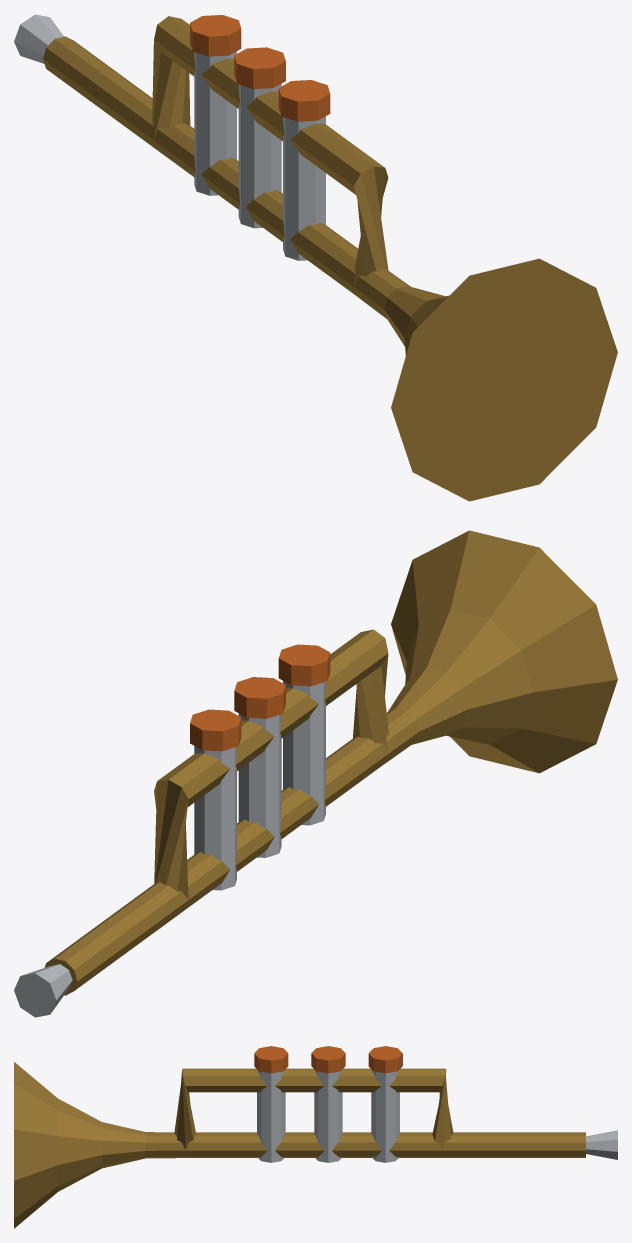
The model's file is fanfar.glb.
3 views of the same model, one above another, from view 1: azimuth 30°, elevation 25°; view 2: azimuth 150°, elevation 25°; view 3: azimuth 270°, elevation 25° (orthographic). The views are drawn at different scales.
Parts seen in each view (by area): view 1: m; view 2: m; view 3: m.
Boxes of the visible parts, x1,y1,x2,y2 form: m: [14, 14, 617, 501]; m: [14, 530, 617, 1017]; m: [14, 1046, 617, 1228].
Bounding box in the file's own units: 0.1117 × 0.1203 × 0.4.
